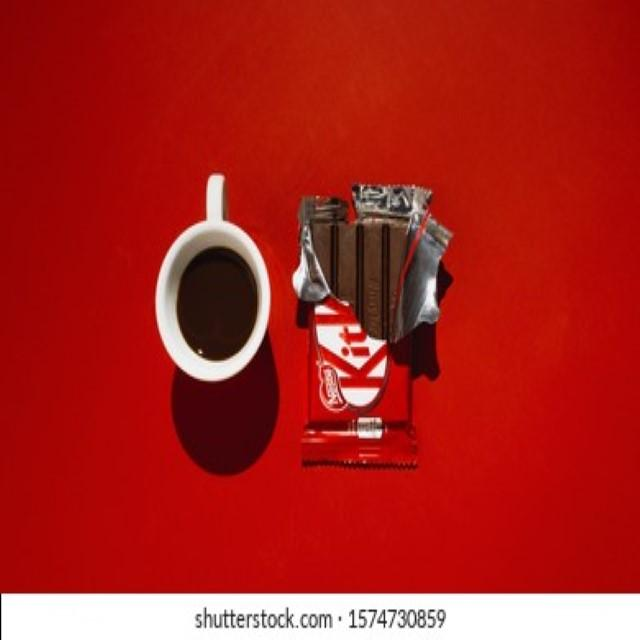kitkat_chocolate: (314, 220, 434, 473)
